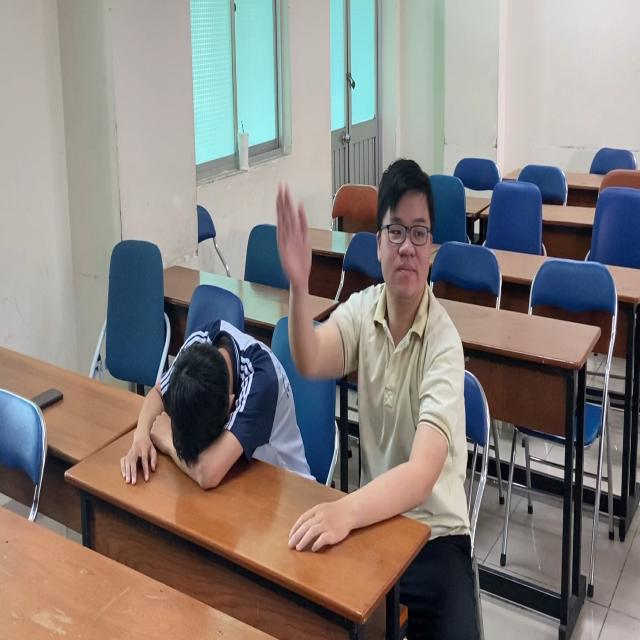raise_hand: (273, 161, 486, 574)
sleep: (122, 303, 312, 509)
